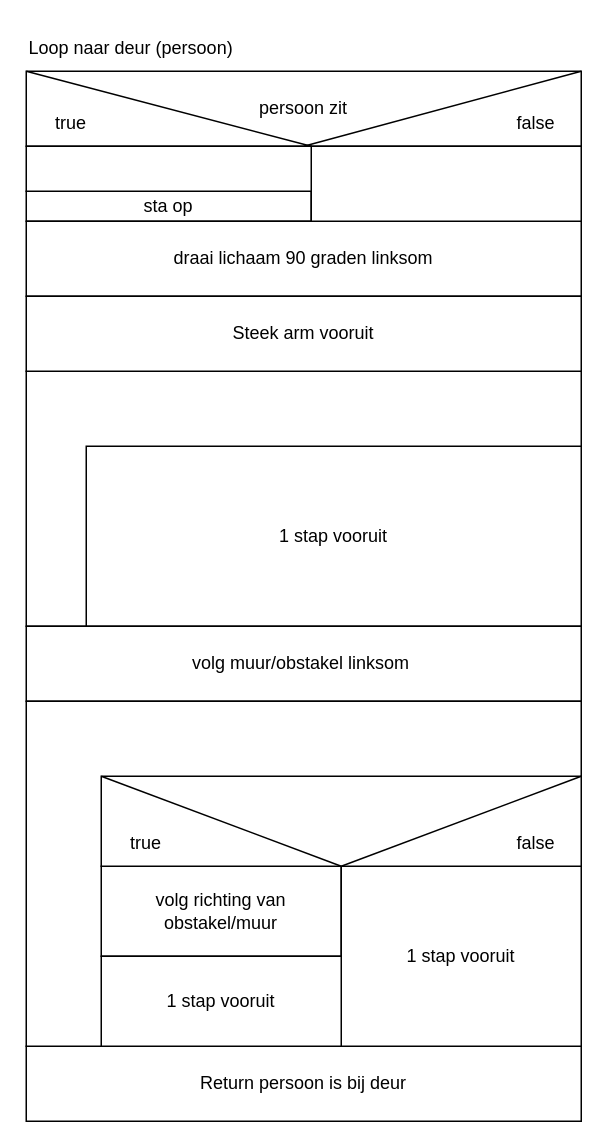
This 609x1148 diagram has some shape labels left out. The shapes that lost their labels are listed below. From the top down, each one's box as (x1, y1, x2, y2) in pixels, then its label:
(25, 145, 311, 191): schuif stoel 1m naar achteren
(310, 145, 581, 221): blijf staan
(25, 370, 581, 626): totdat arm muur of obstakel raakt
(100, 775, 581, 866): als arm muur/obstakel voelt
(25, 700, 581, 1046): totdat arm deur voelt
